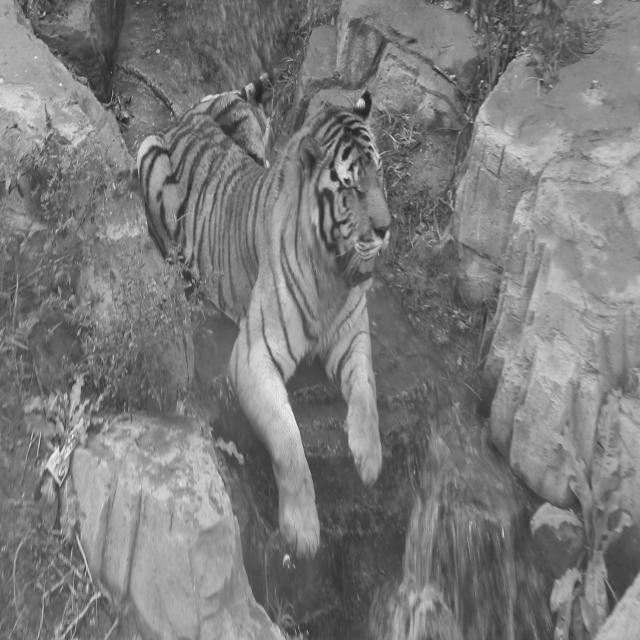Tiger: (135, 73, 392, 560)
